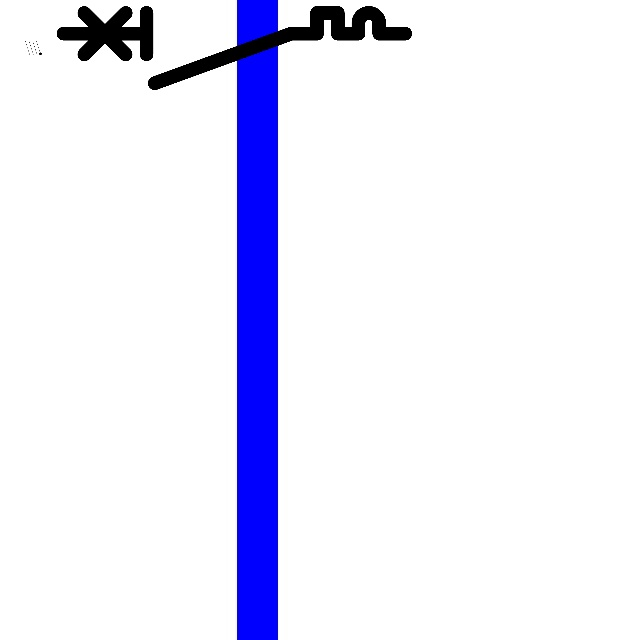interruptor_termomagnetico: (54, 4, 414, 92)
